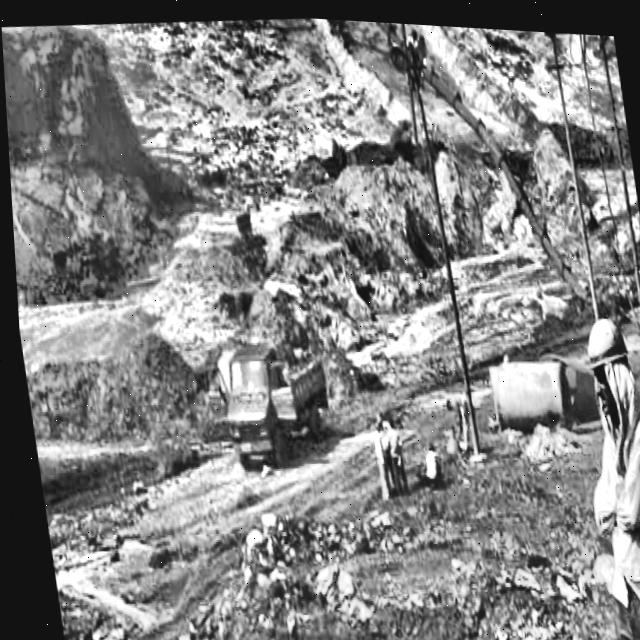light_vehicle: (195, 335, 331, 472)
